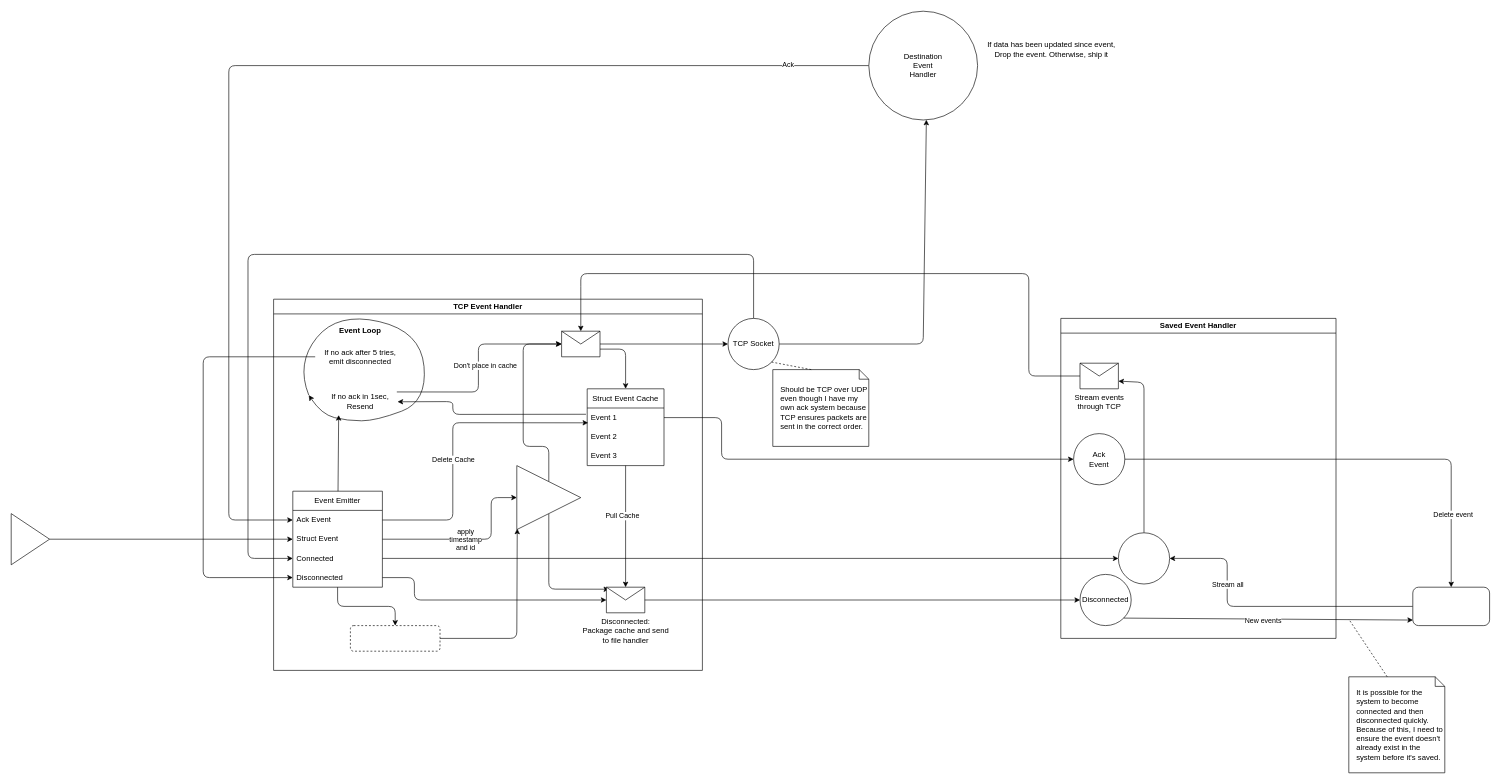
This 1501x784 diagram has some shape labels left out. Here are the shapes that lost their labels. From the top down, the centre of each, then its label:
pixel 580 344: Connected and ready
pixel 548 497: connected?
pixel 30 539: Event
pixel 1144 558: Connected Event
pixel 1451 606: Saved Event Struct
pixel 395 638: Connection State
